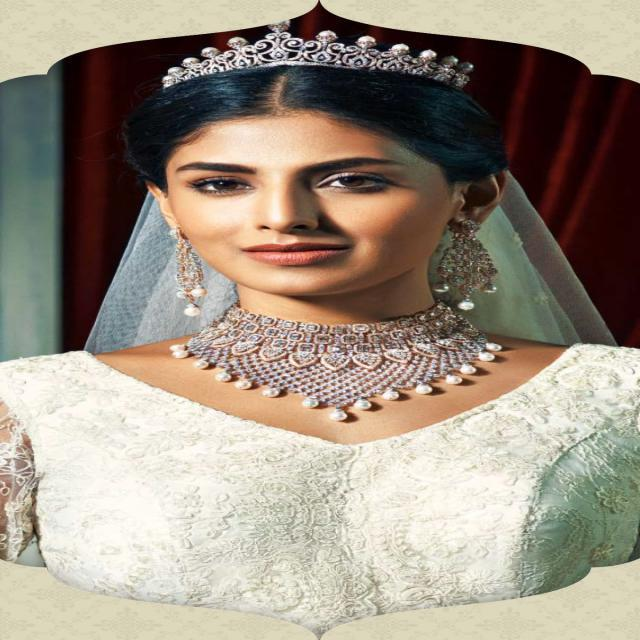Earring: (432, 199, 512, 325), (164, 220, 214, 324)
